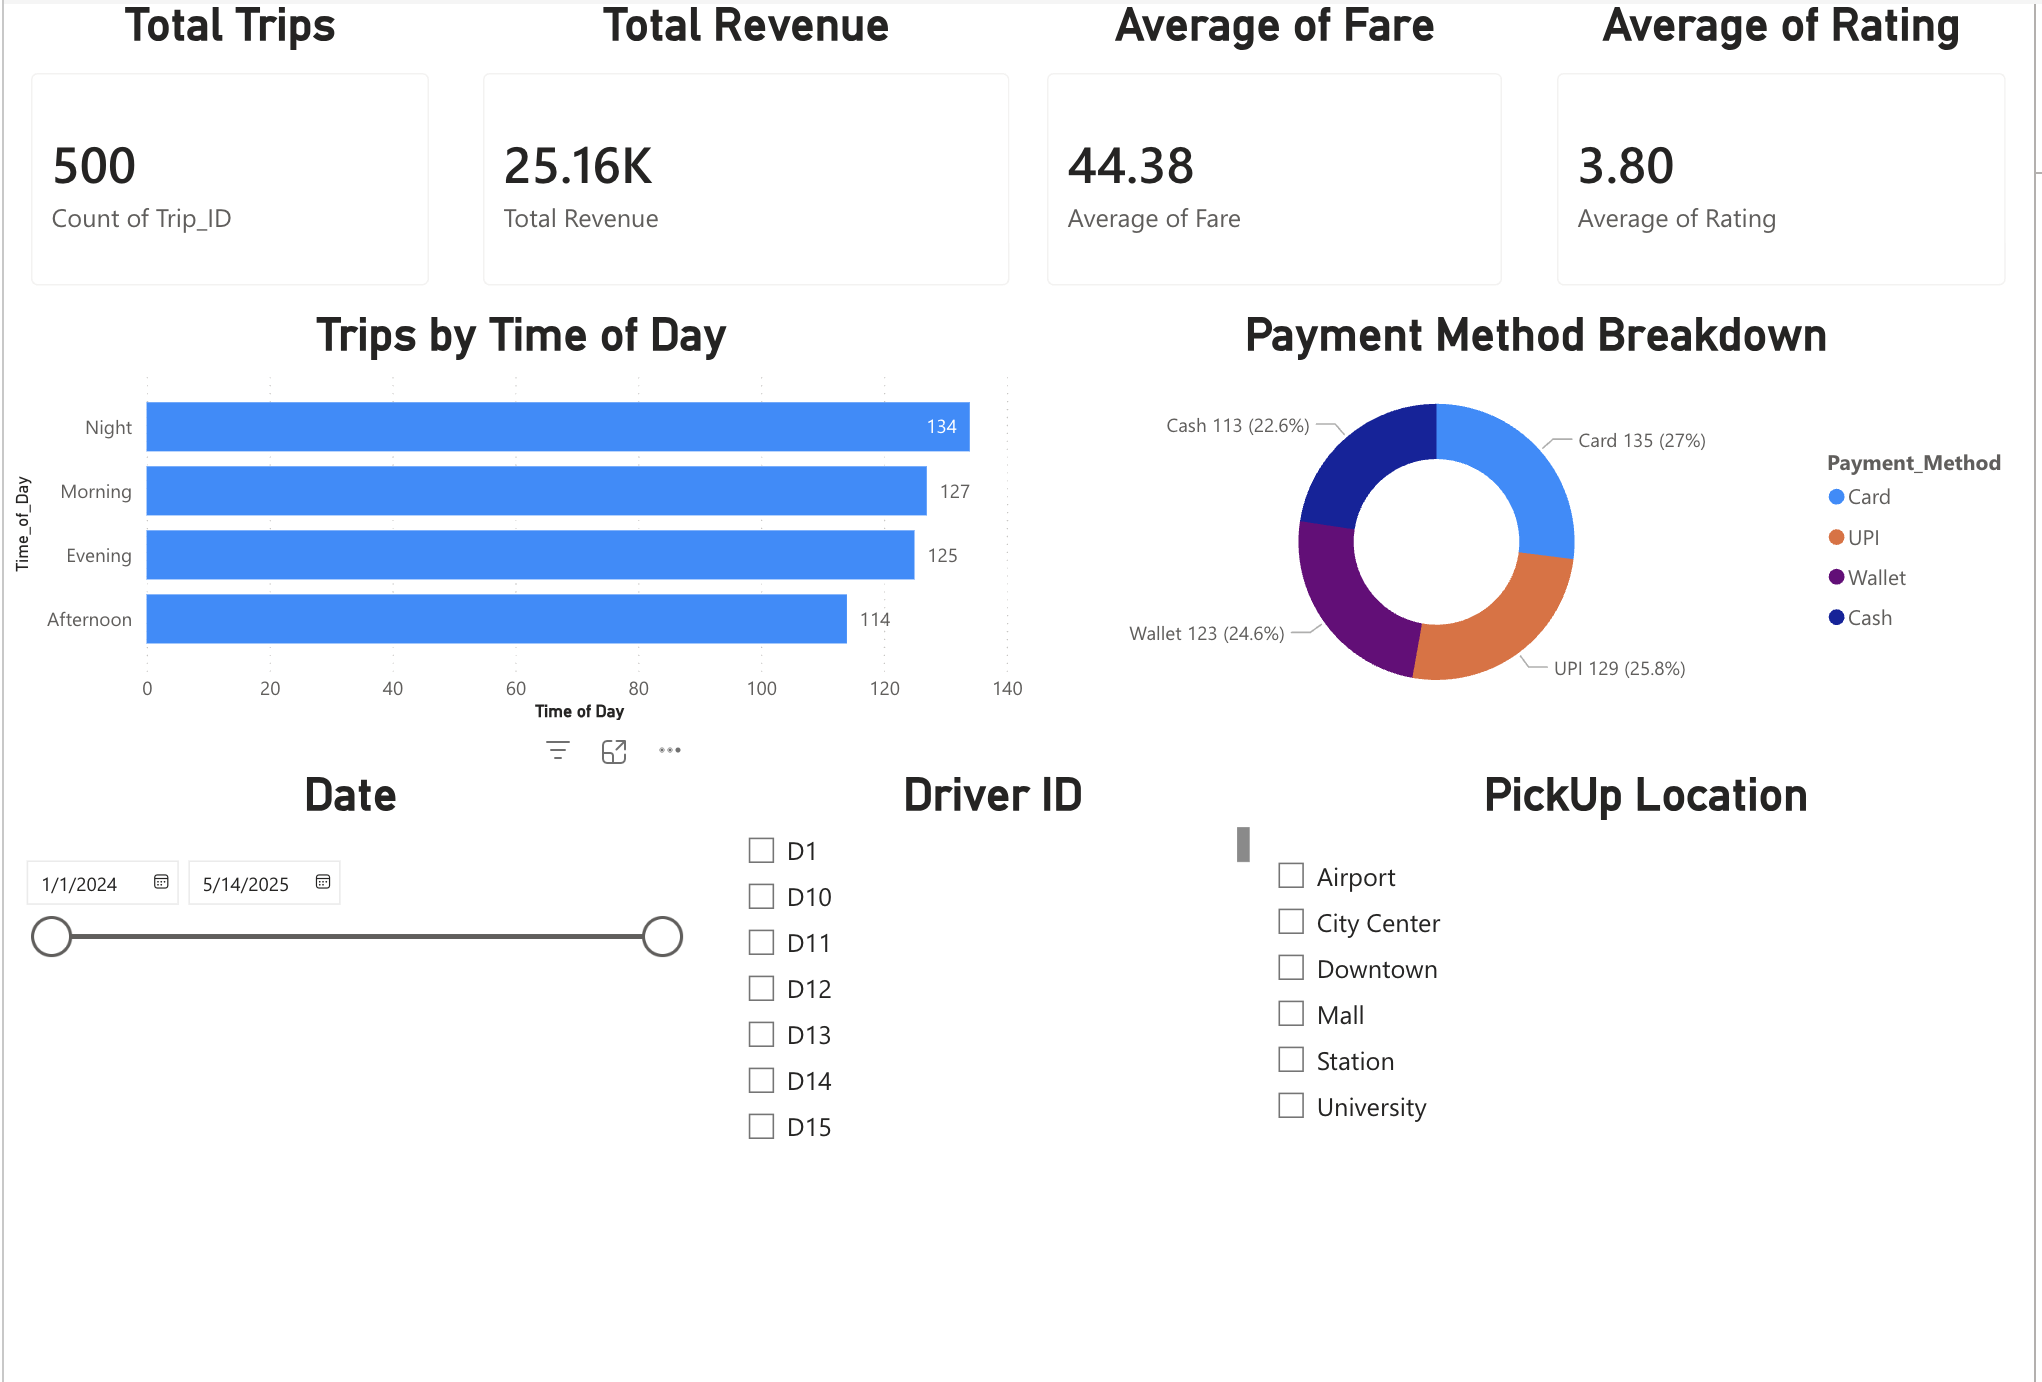

What the dashboard file says about the page in this screenshot:
{"tool":"powerbi","page":{"name":"Overview Dashboard","canvas":[1280,720],"ordinal":0},"visuals":[{"type":"cardVisual","title":"Total Trips","fields":{"Data":["CountNonNull(RideSharing_Dataset.Trip_ID)"]},"box":[0,0,285.3,195.3],"z":0},{"type":"cardVisual","title":"Total Revenue","fields":{"Data":["RideSharing_Dataset.Total Revenue"]},"box":[285.3,0,366.1,195.3],"z":1000},{"type":"cardVisual","title":"Average of Fare","fields":{"Data":["Avg(RideSharing_Dataset.Fare)"]},"box":[640.8,0,321.9,195.3],"z":2000},{"type":"cardVisual","title":"Average of Rating","fields":{"Data":["Avg(RideSharing_Dataset.Rating)"]},"box":[962.7,0,317.3,195.3],"z":3000},{"type":"clusteredBarChart","title":"Trips by Time of Day","fields":{"Category":["RideSharing_Dataset.Time_of_Day"],"Y":["CountNonNull(RideSharing_Dataset.Trip_ID)"]},"box":[1.5,195.3,649.9,260.9],"z":4000},{"type":"donutChart","title":"Payment Method Breakdown","fields":{"Category":["RideSharing_Dataset.Payment_Method"],"Y":["CountNonNull(RideSharing_Dataset.Trip_ID)"]},"box":[651.4,195.3,628.6,260.9],"z":5000},{"type":"slicer","title":"Date","fields":{"Values":["RideSharing_Dataset.Date"]},"box":[1.5,485.1,434.8,234.9],"z":6000},{"type":"slicer","title":"Driver ID","fields":{"Values":["RideSharing_Dataset.Driver_ID"]},"box":[456.2,485.1,334.1,234.9],"z":7000},{"type":"slicer","title":"PickUp Location","fields":{"Values":["RideSharing_Dataset.Pickup_Location"]},"box":[790.3,485.1,489.7,234.9],"z":8000}]}

Visuals, with their boxes on the page's 1280x720 design canvas (x1, y1, x2, y2). These are canvas units, not pixel positions in the 2042x1382 screenshot, which may show the page scaled, cropped or inside an application window:
"Total Trips" cardVisual: select_region(0, 0, 285, 195)
"Total Revenue" cardVisual: select_region(285, 0, 651, 195)
"Average of Fare" cardVisual: select_region(641, 0, 963, 195)
"Average of Rating" cardVisual: select_region(963, 0, 1280, 195)
"Trips by Time of Day" clusteredBarChart: select_region(2, 195, 651, 456)
"Payment Method Breakdown" donutChart: select_region(651, 195, 1280, 456)
"Date" slicer: select_region(2, 485, 436, 720)
"Driver ID" slicer: select_region(456, 485, 790, 720)
"PickUp Location" slicer: select_region(790, 485, 1280, 720)
